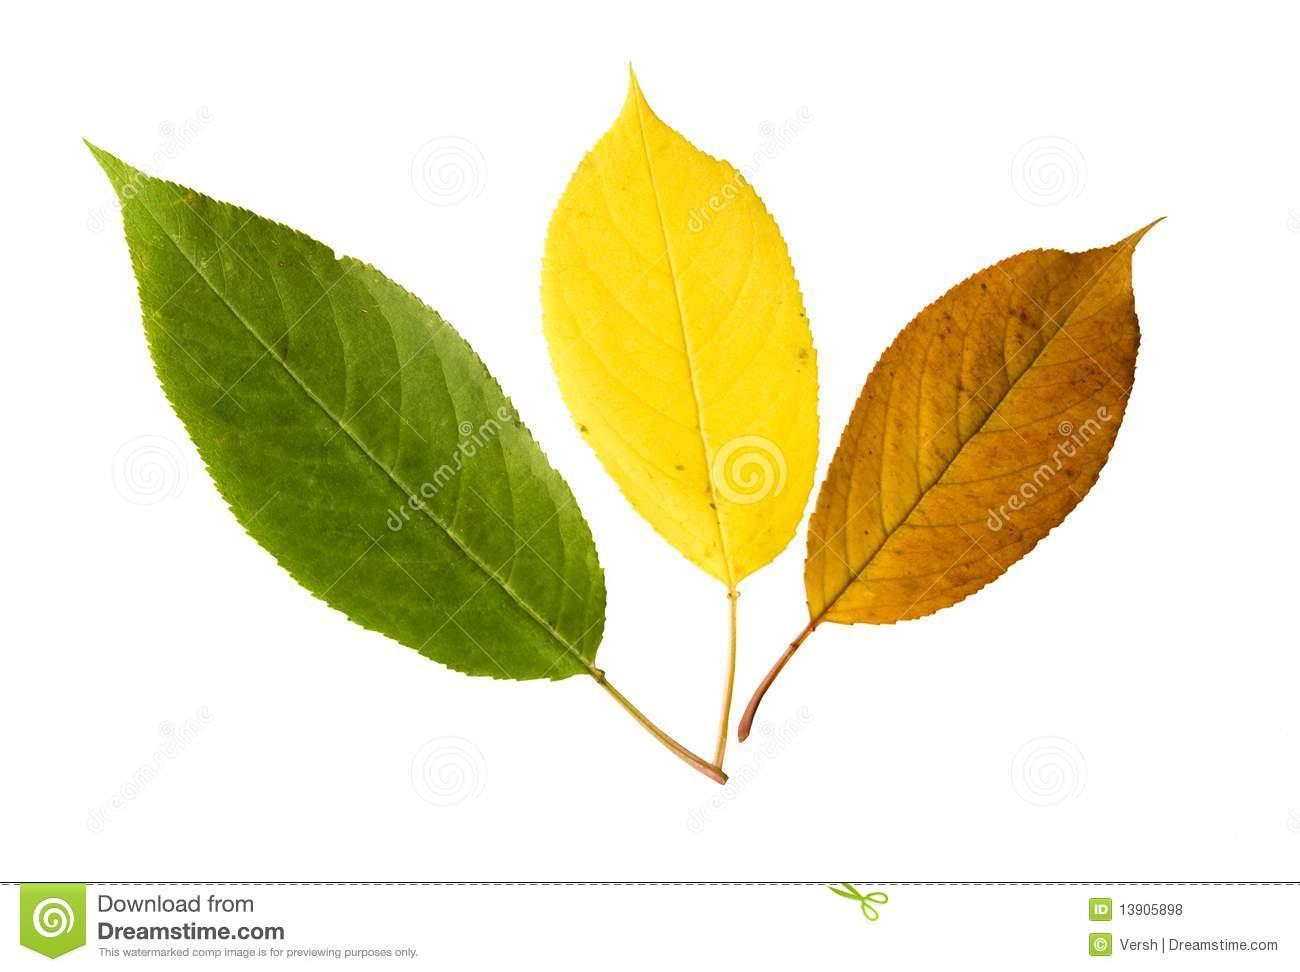Cherry leaf: (61, 126, 618, 712), (798, 136, 1175, 734), (550, 63, 838, 604)
